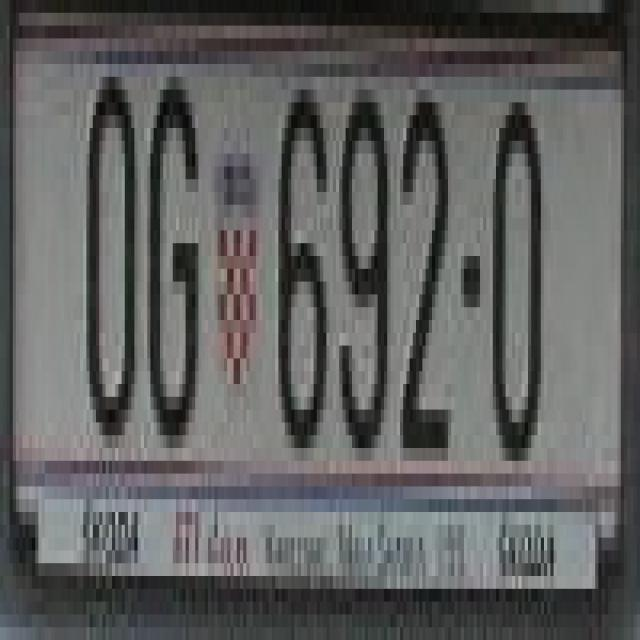0: (487, 128, 548, 461), (84, 51, 134, 448)
2: (400, 90, 454, 436)
6: (282, 77, 332, 461)
9: (330, 77, 390, 448)
G: (147, 64, 205, 448)
